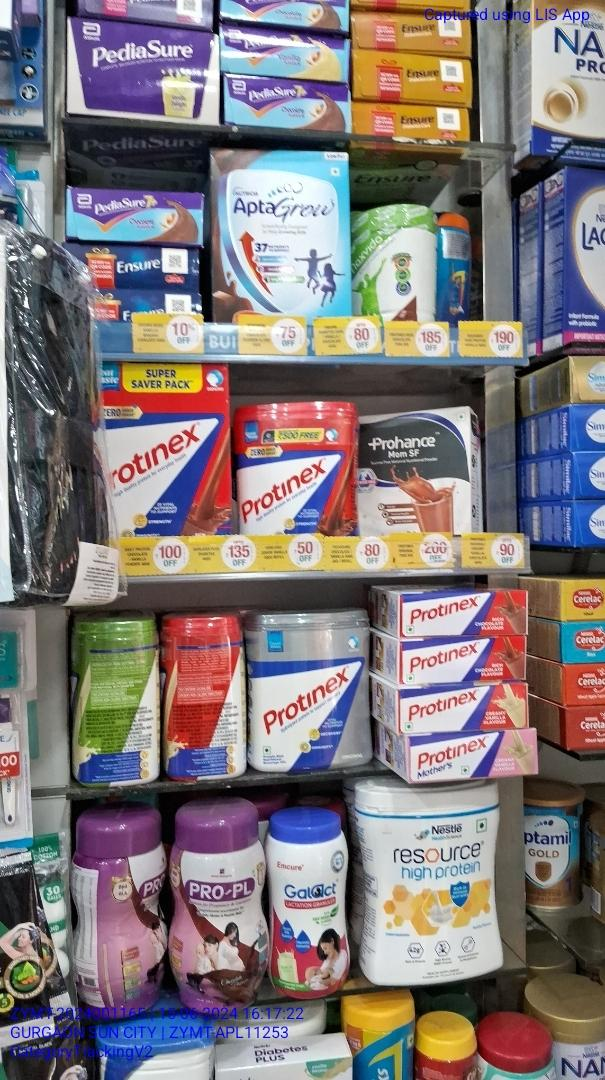PROTINEX_CHOCOLATE_400_G_JAR: (234, 403, 354, 537)
PROTINEX_ORIGINAL_400_G_JAR: (246, 614, 370, 767)
